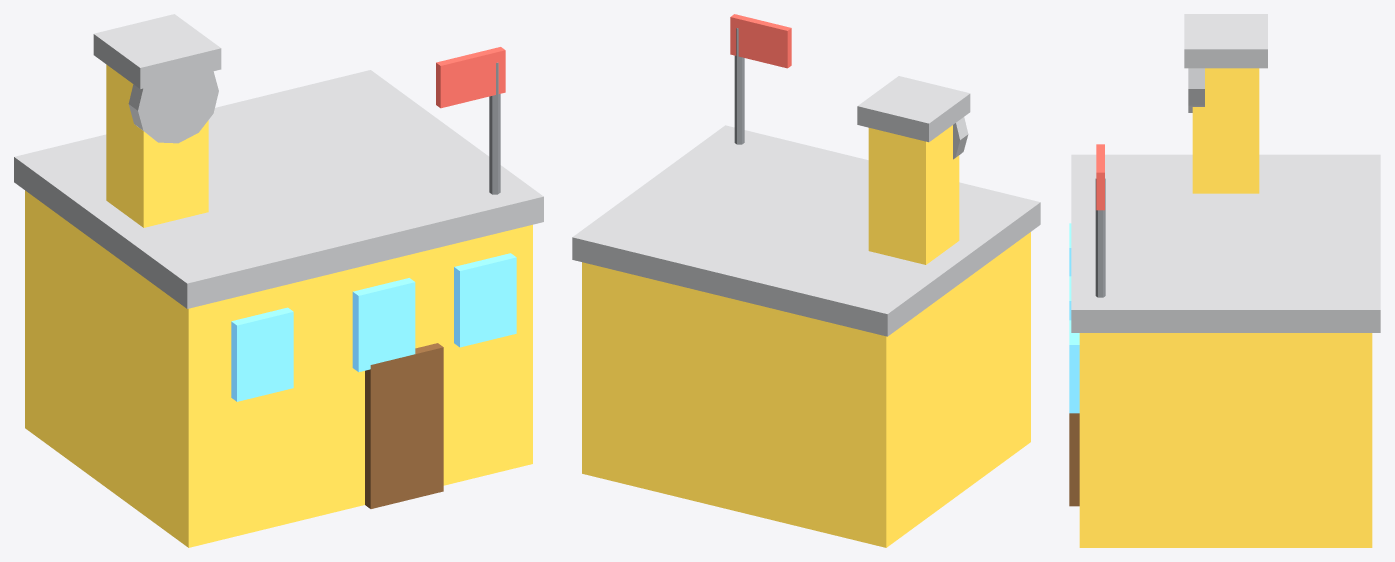
File: school.glb
3 views of the same model, side by side, from view 1: azimuth 30°, elevation 25°; view 2: azimuth 150°, elevation 25°; view 3: azimuth 270°, elevation 25° (orthographic). The views are drawn at different scales.
Parts seen in each view (by area): view 1: school; view 2: school; view 3: school.
Part boxes in pixels (box(x1,y1,x2,y2)): school: box(14, 14, 543, 547); school: box(572, 14, 1040, 547); school: box(1069, 14, 1380, 547).
Size of the model in its own units: 0.88 by 1.02 by 0.745.
